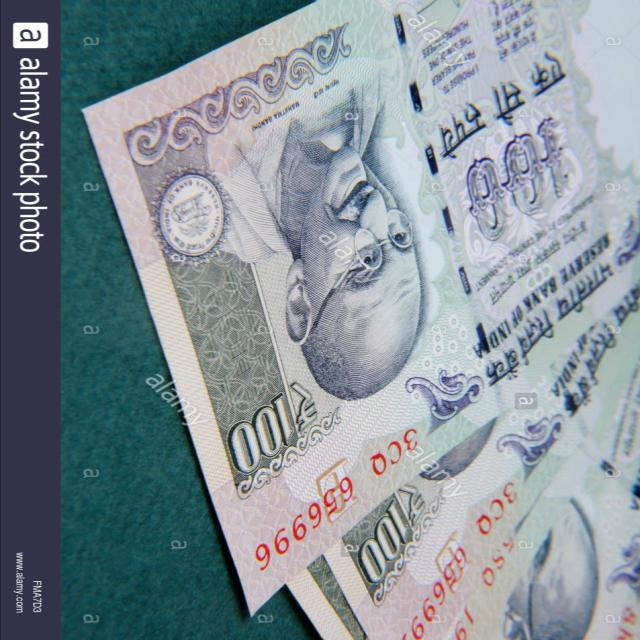100IndianRupees: (83, 0, 640, 614)
